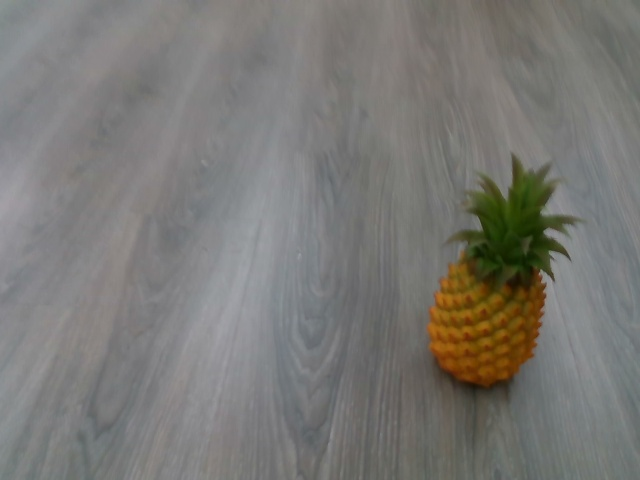pineapple: (425, 153, 586, 393)
